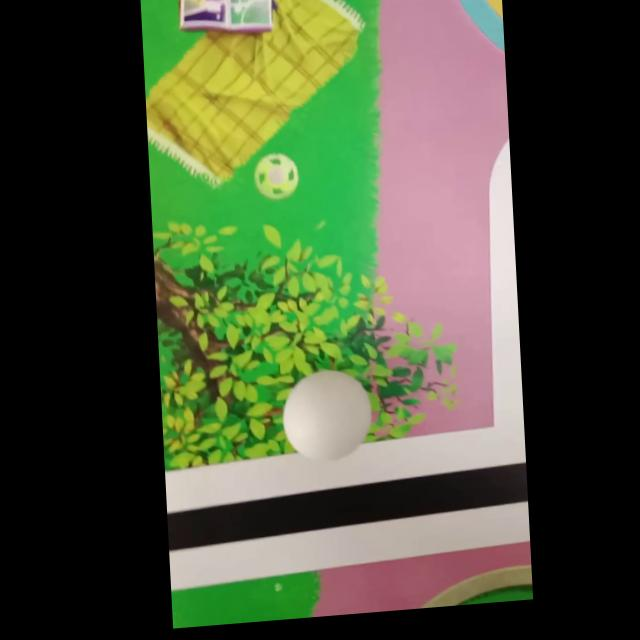white ball: (279, 365, 374, 464)
